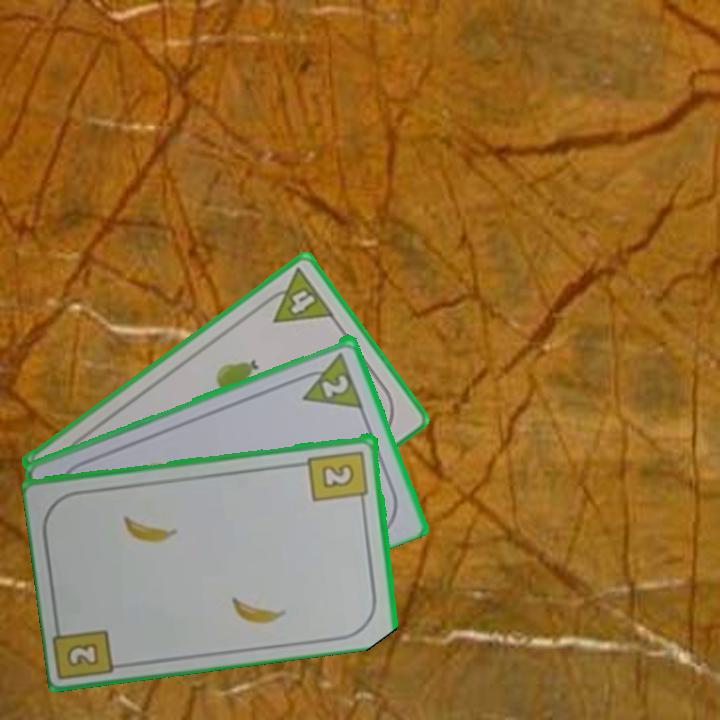2b: (305, 446, 372, 508), (63, 638, 103, 670)
2p: (292, 348, 366, 411)
4p: (257, 264, 337, 326)
